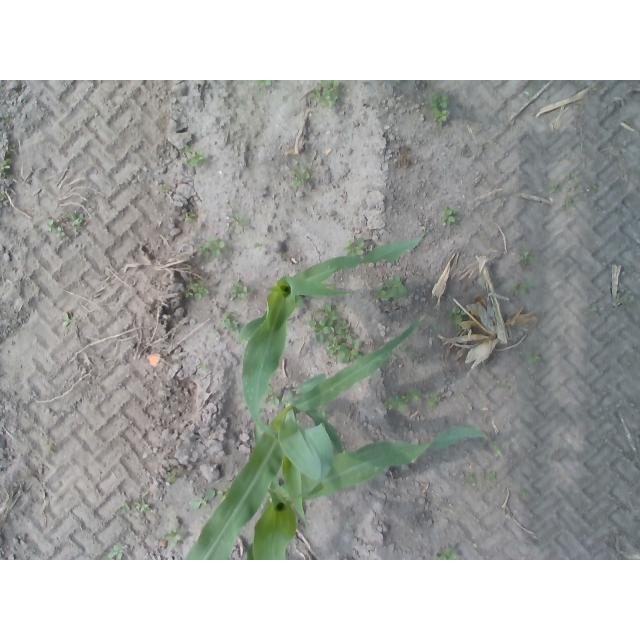Maize: (185, 312, 424, 558), (241, 233, 428, 444), (253, 425, 503, 560)
Weeds: (310, 306, 363, 363), (375, 278, 408, 302), (316, 81, 340, 107), (432, 91, 451, 123), (188, 490, 216, 510), (198, 238, 224, 257), (184, 147, 206, 166), (227, 282, 249, 300), (186, 280, 206, 298), (165, 526, 182, 547), (435, 546, 459, 560), (387, 394, 404, 409), (443, 209, 458, 226), (347, 240, 364, 255), (409, 388, 424, 404), (224, 319, 240, 334), (109, 545, 126, 559), (453, 306, 467, 322), (72, 213, 87, 227), (568, 171, 581, 185), (295, 166, 310, 178), (135, 501, 149, 512), (165, 470, 177, 482), (428, 394, 440, 406), (2, 158, 13, 171), (529, 350, 540, 363), (522, 253, 535, 264), (259, 81, 274, 90), (290, 179, 302, 190), (511, 282, 521, 295), (44, 219, 54, 232), (467, 472, 478, 483), (185, 213, 196, 224), (62, 314, 70, 327), (488, 471, 498, 481), (56, 227, 65, 238), (552, 183, 561, 193), (122, 505, 130, 515), (523, 283, 533, 290), (165, 185, 172, 194), (592, 182, 598, 192)
